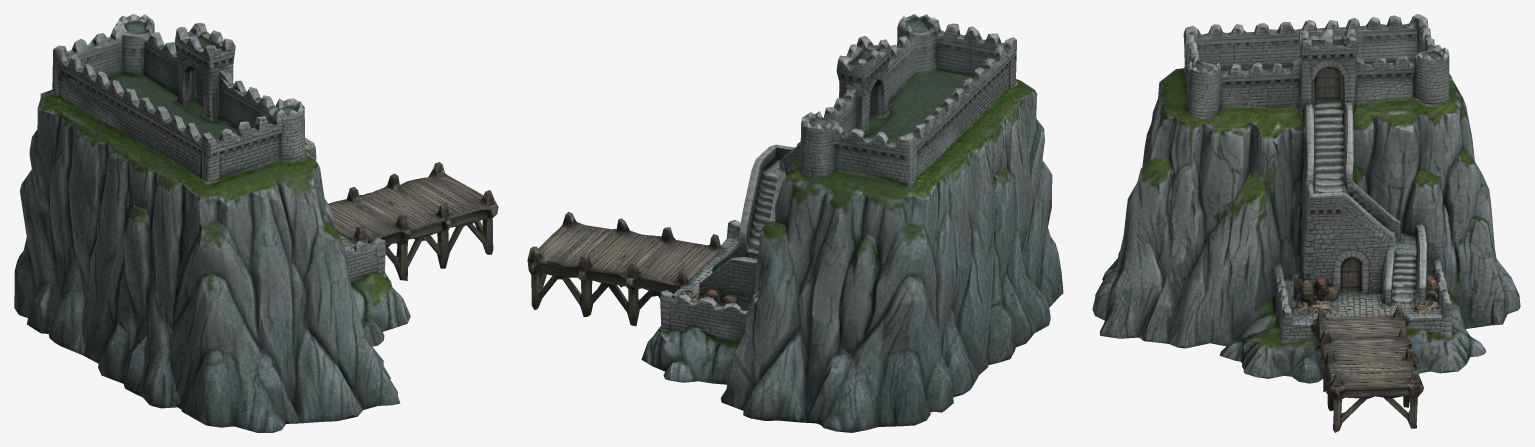
File: pier_stair.glb
3 views of the same model, side by side, from view 1: azimuth 30°, elevation 25°; view 2: azimuth 150°, elevation 25°; view 3: azimuth 270°, elevation 25° (orthographic). The views are drawn at different scales.
Parts seen in each view (by area): view 1: pier_stair_export; view 2: pier_stair_export; view 3: pier_stair_export.
Boxes of the visible parts, box(x1,y1,x2,y2) form: pier_stair_export: box(14, 14, 498, 432); pier_stair_export: box(527, 14, 1063, 432); pier_stair_export: box(1092, 14, 1520, 432).
Size of the model in its own units: 60 by 39.9 by 57.1.
Materials: 1 (1 with a texture image).
